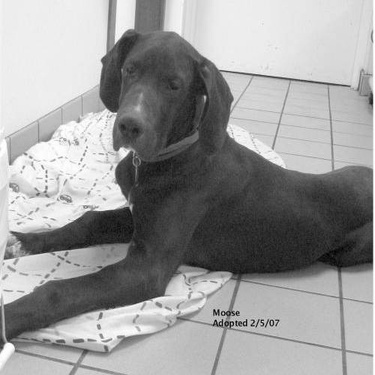dog: (1, 20, 370, 356)
